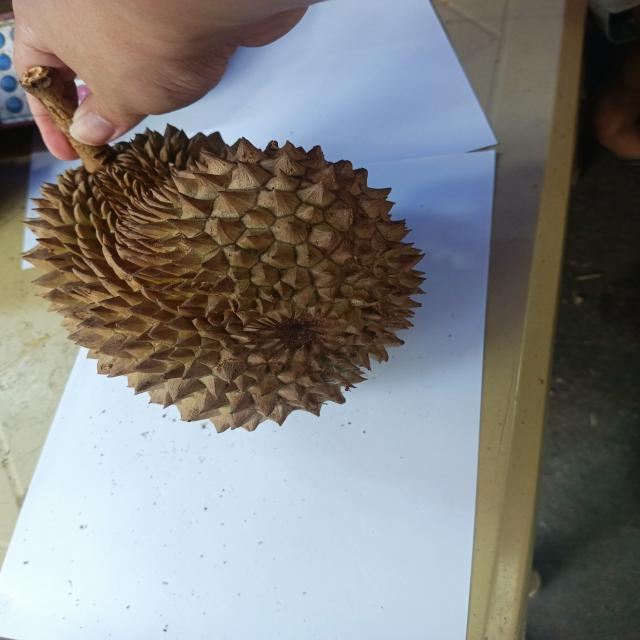mature: (22, 132, 424, 431)
